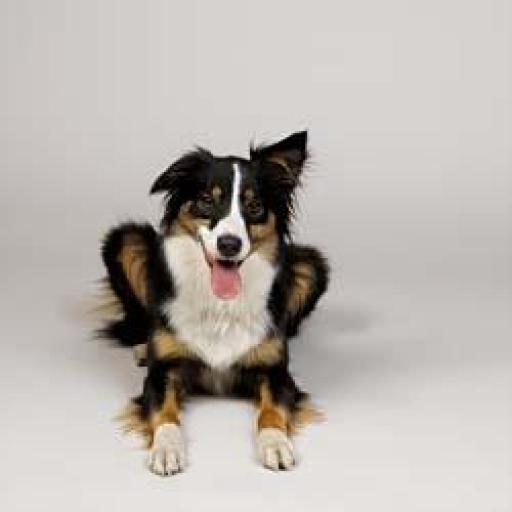dog_face: (155, 133, 314, 270)
